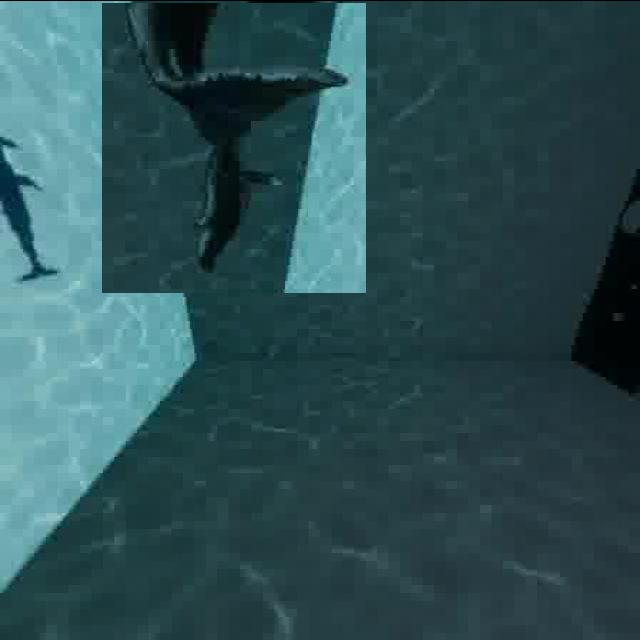Whale: (102, 2, 366, 292)
